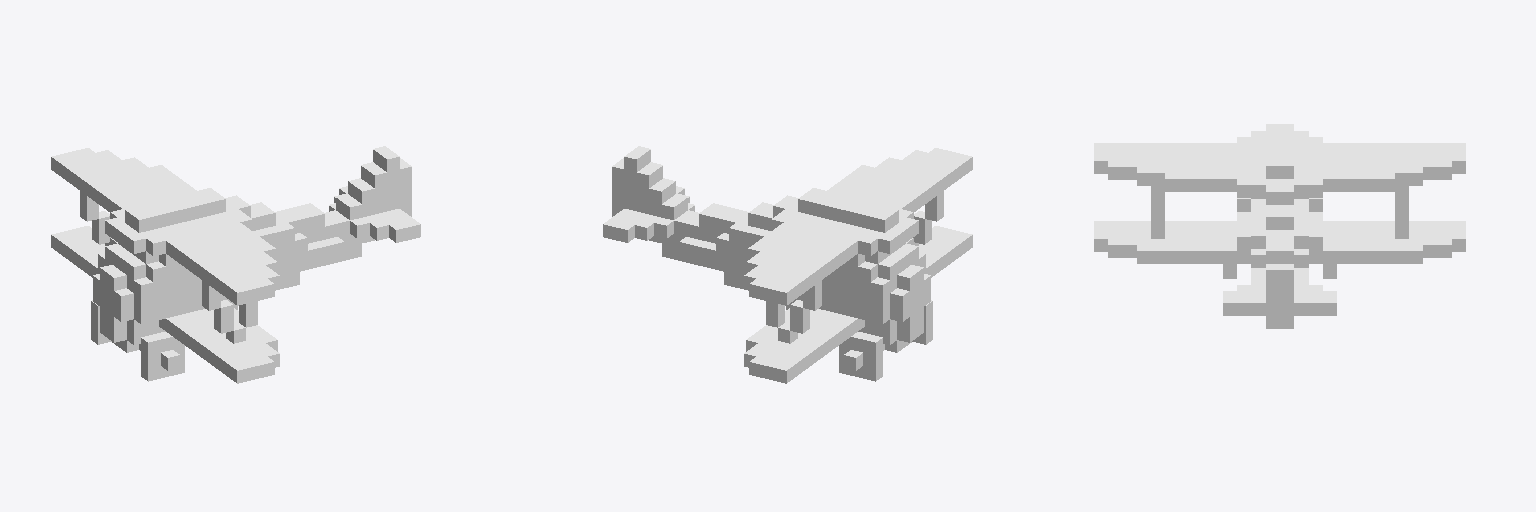
File: AirplaneBody.obj
The picture shows the model from 3 angles: view 1: azimuth 30°, elevation 25°; view 2: azimuth 150°, elevation 25°; view 3: azimuth 270°, elevation 25°; orthographic projection.
Parts seen in each view (by area): view 1: object 1; view 2: object 1; view 3: object 1.
Part boxes in pixels (x1,y1,x2,y2): object 1: (51,146,420,383); object 1: (603,146,972,383); object 1: (1094,124,1465,328).
Bounding box in the file's own units: 2.4 × 1.1 × 2.6.